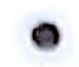cancer: (16, 12, 73, 66)
